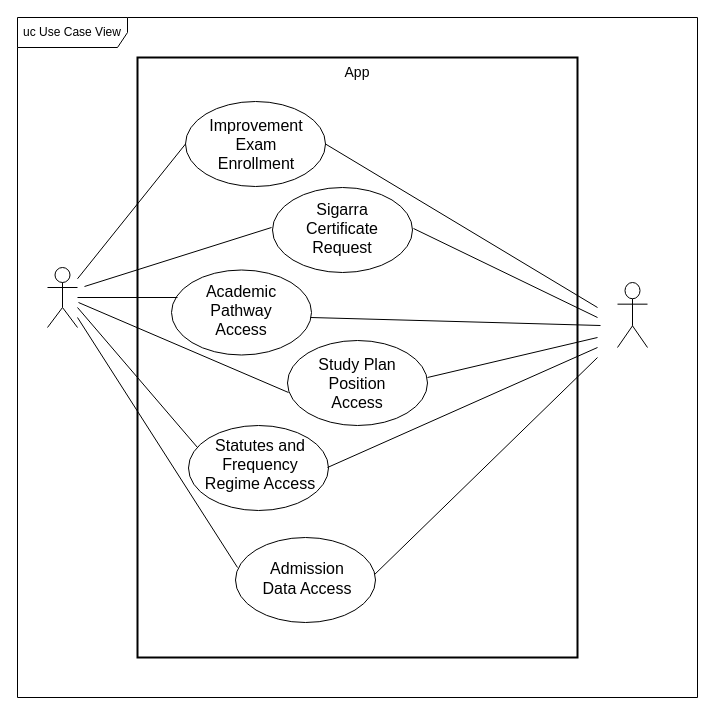
This 715x715 diagram has some shape labels left out. Each missing label, with the centre of its shape:
Sigarra: point 632,315
Student: point 62,297
